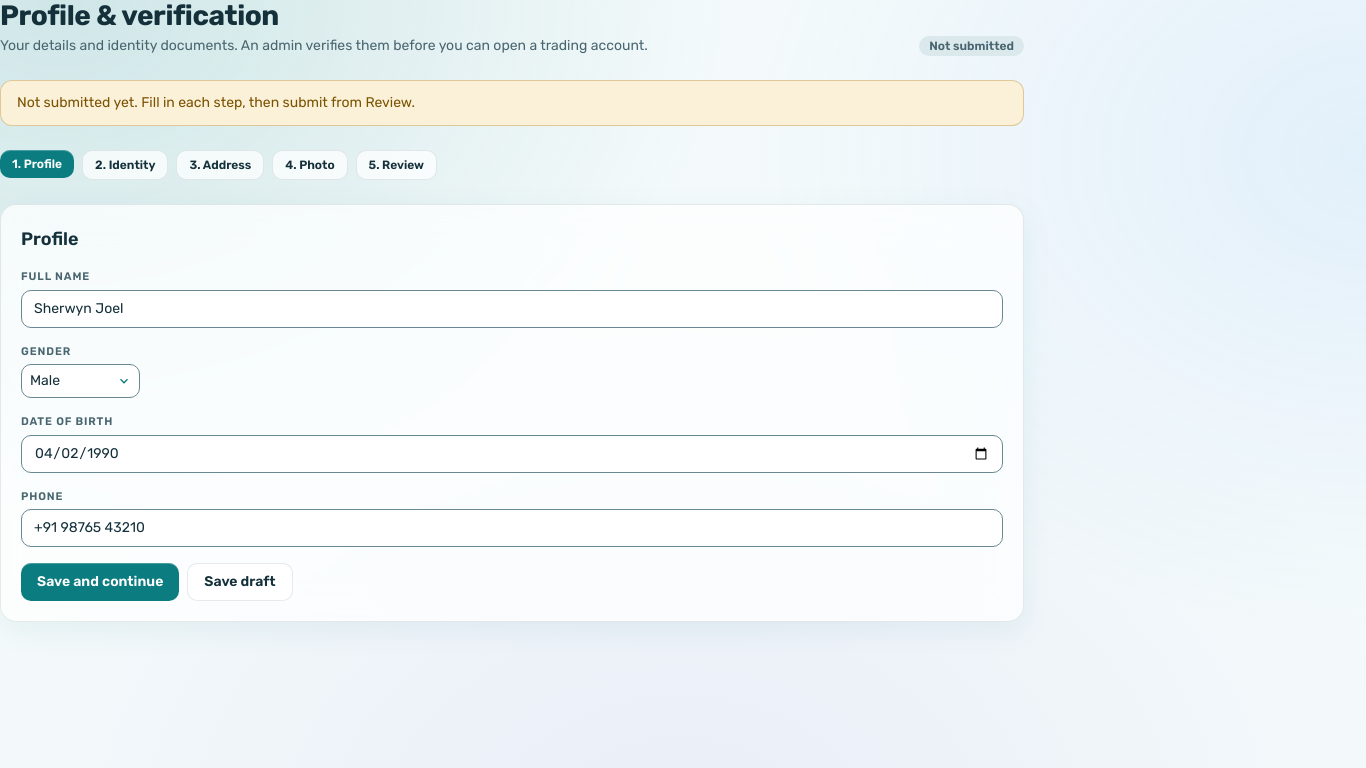
Test: Review lists what is still needed and holds the submit back
This screenshot has width=1366, height=768.
Click the button "5. Review" at (396, 165), box x1=356 y1=150 x2=437 y2=180
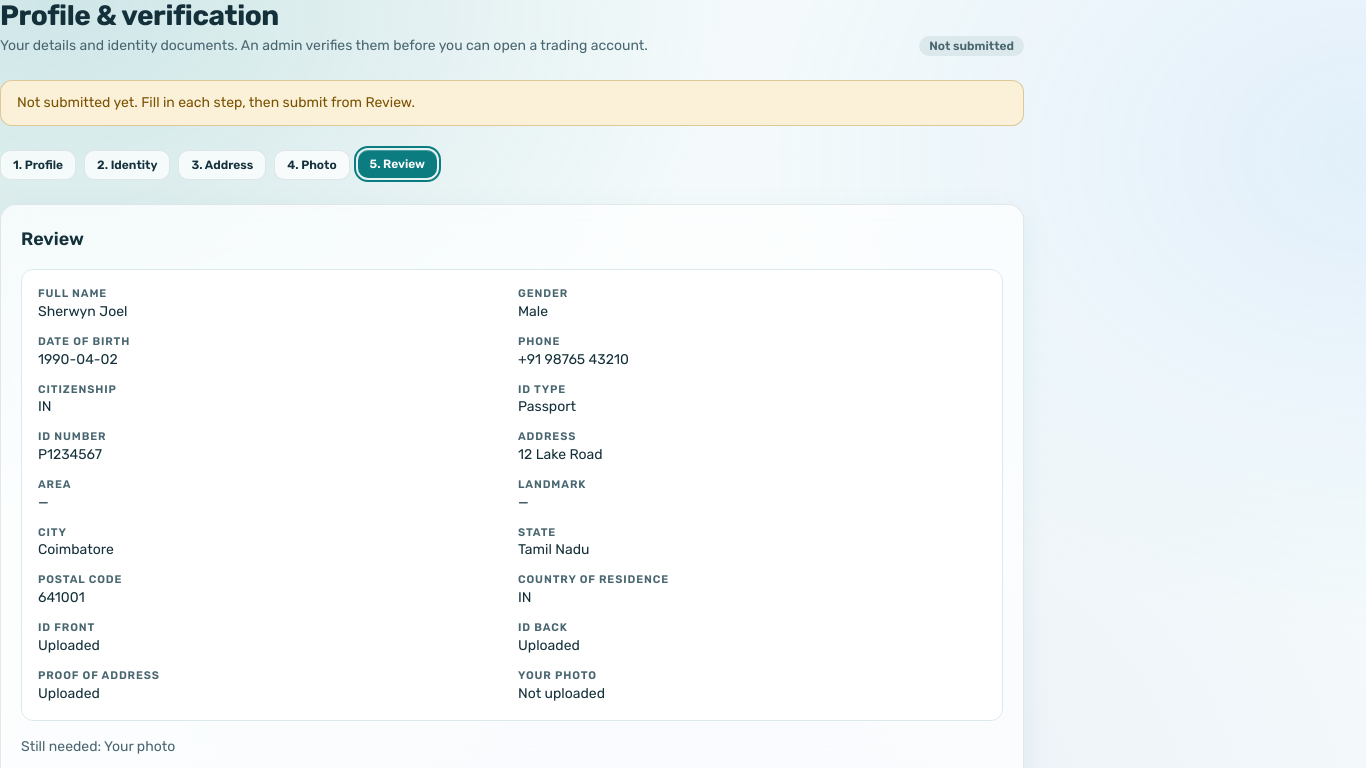
Expected: the text "Still needed: Your photo" is shown, x1=21 y1=738 x2=175 y2=754
Expected: the text "Passport" is shown, x1=518 y1=398 x2=576 y2=415
